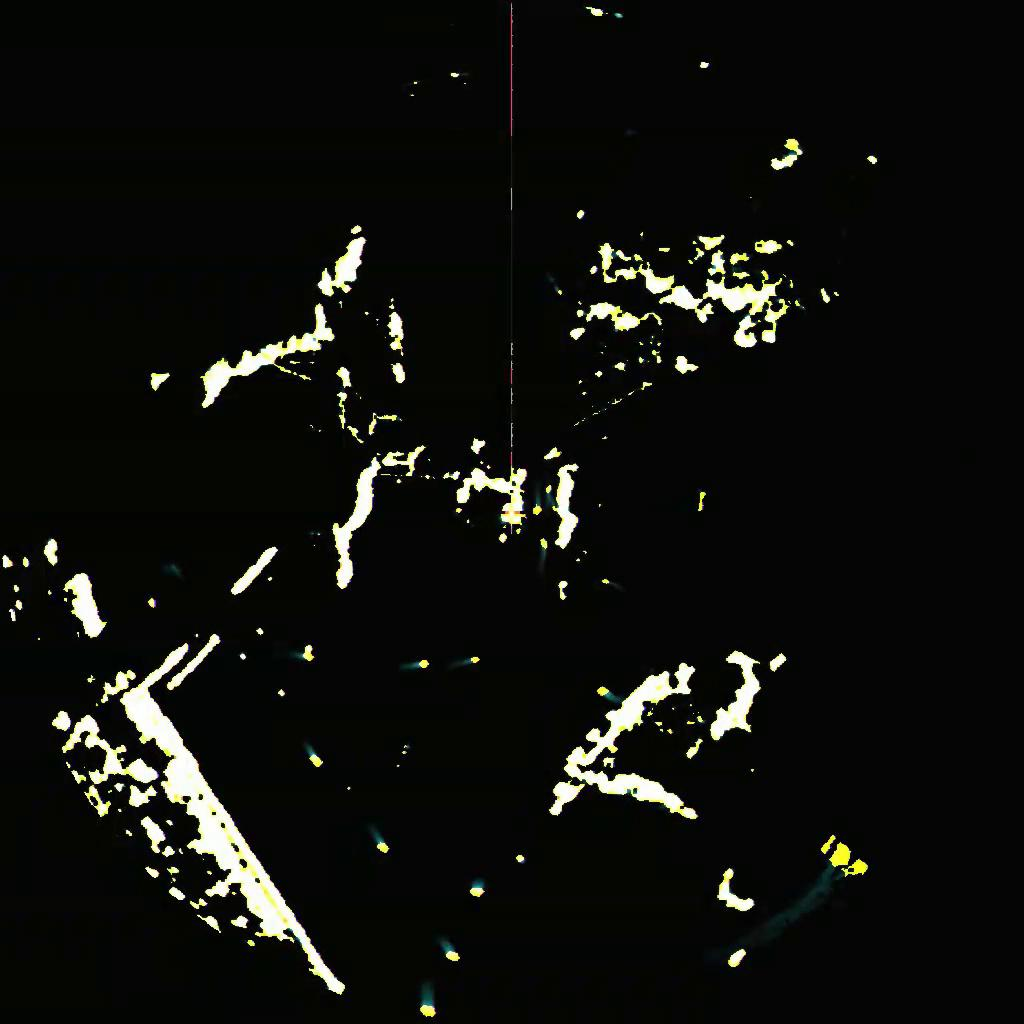B: (419, 978, 436, 1018), (438, 933, 460, 962), (302, 741, 323, 768), (371, 826, 390, 854), (595, 685, 622, 704), (402, 658, 429, 671), (531, 485, 542, 516), (469, 877, 485, 898), (456, 655, 480, 668), (290, 651, 315, 663), (539, 537, 548, 569), (545, 483, 554, 506), (601, 578, 621, 587)
